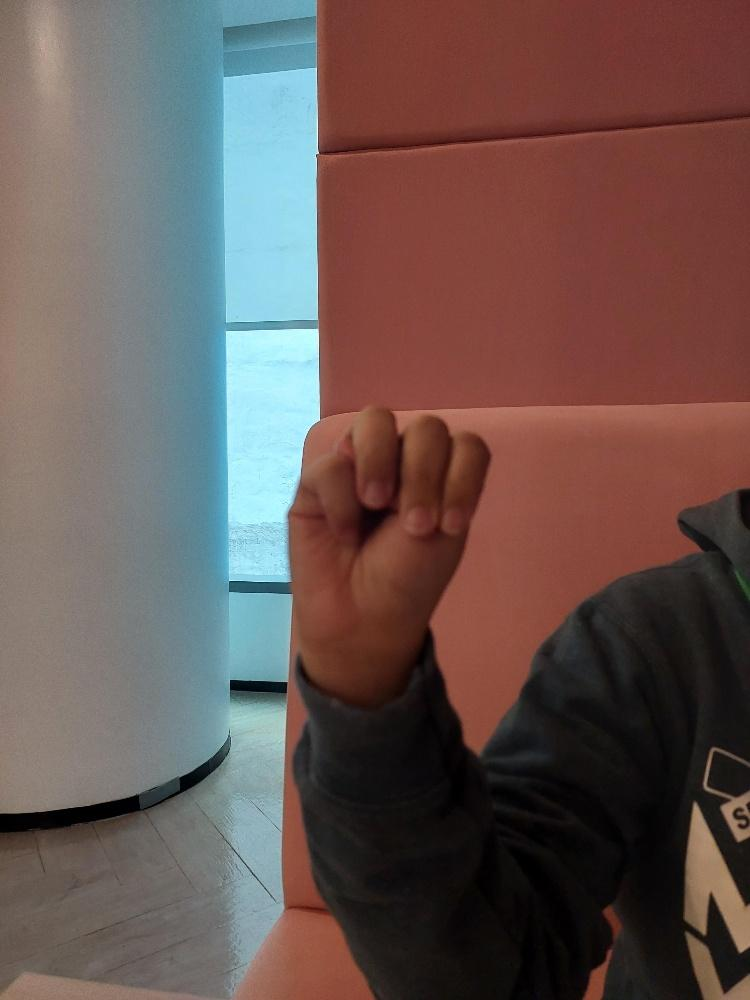m: (275, 395, 503, 674)
